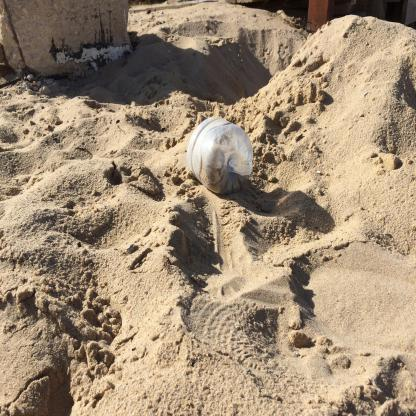plastik: (188, 118, 254, 196)
